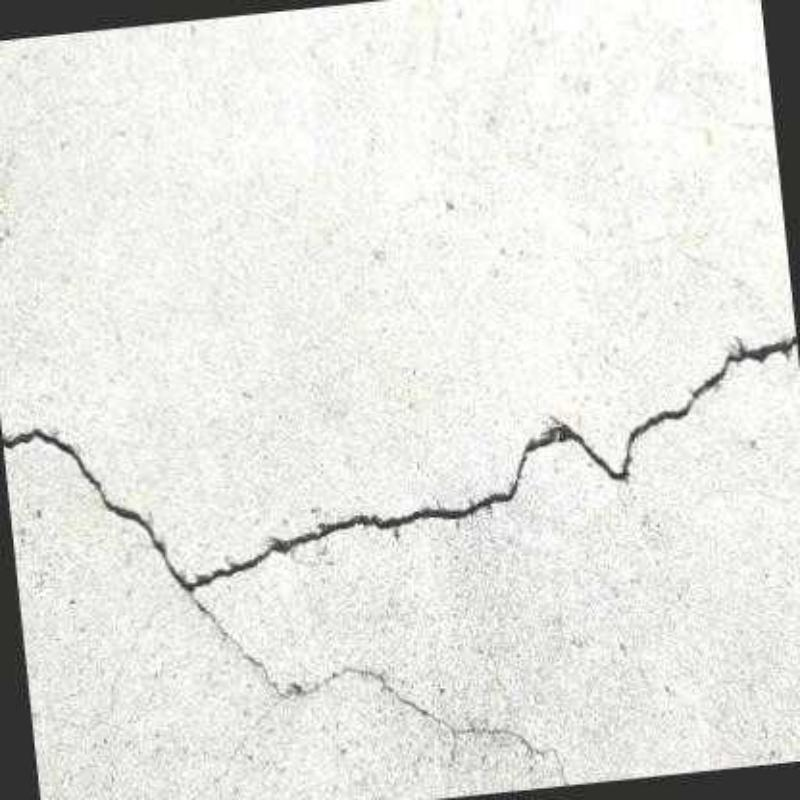crack: (2, 334, 797, 596), (190, 594, 569, 783), (212, 704, 277, 798)
